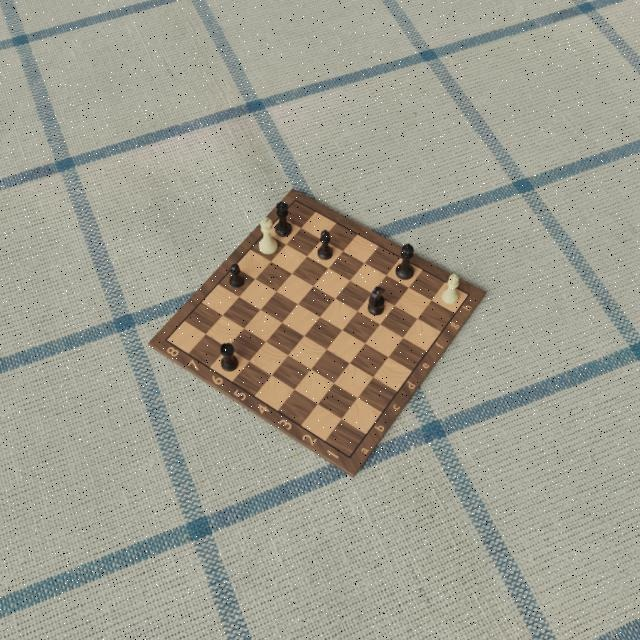black-bishop: (316, 229, 333, 261)
black-king: (394, 243, 414, 281)
black-knight: (367, 284, 385, 316)
black-pawn: (229, 263, 245, 288)
black-queen: (275, 200, 293, 238)
black-rook: (219, 342, 238, 372)
white-bishop: (440, 272, 459, 304)
white-king: (258, 216, 277, 255)
